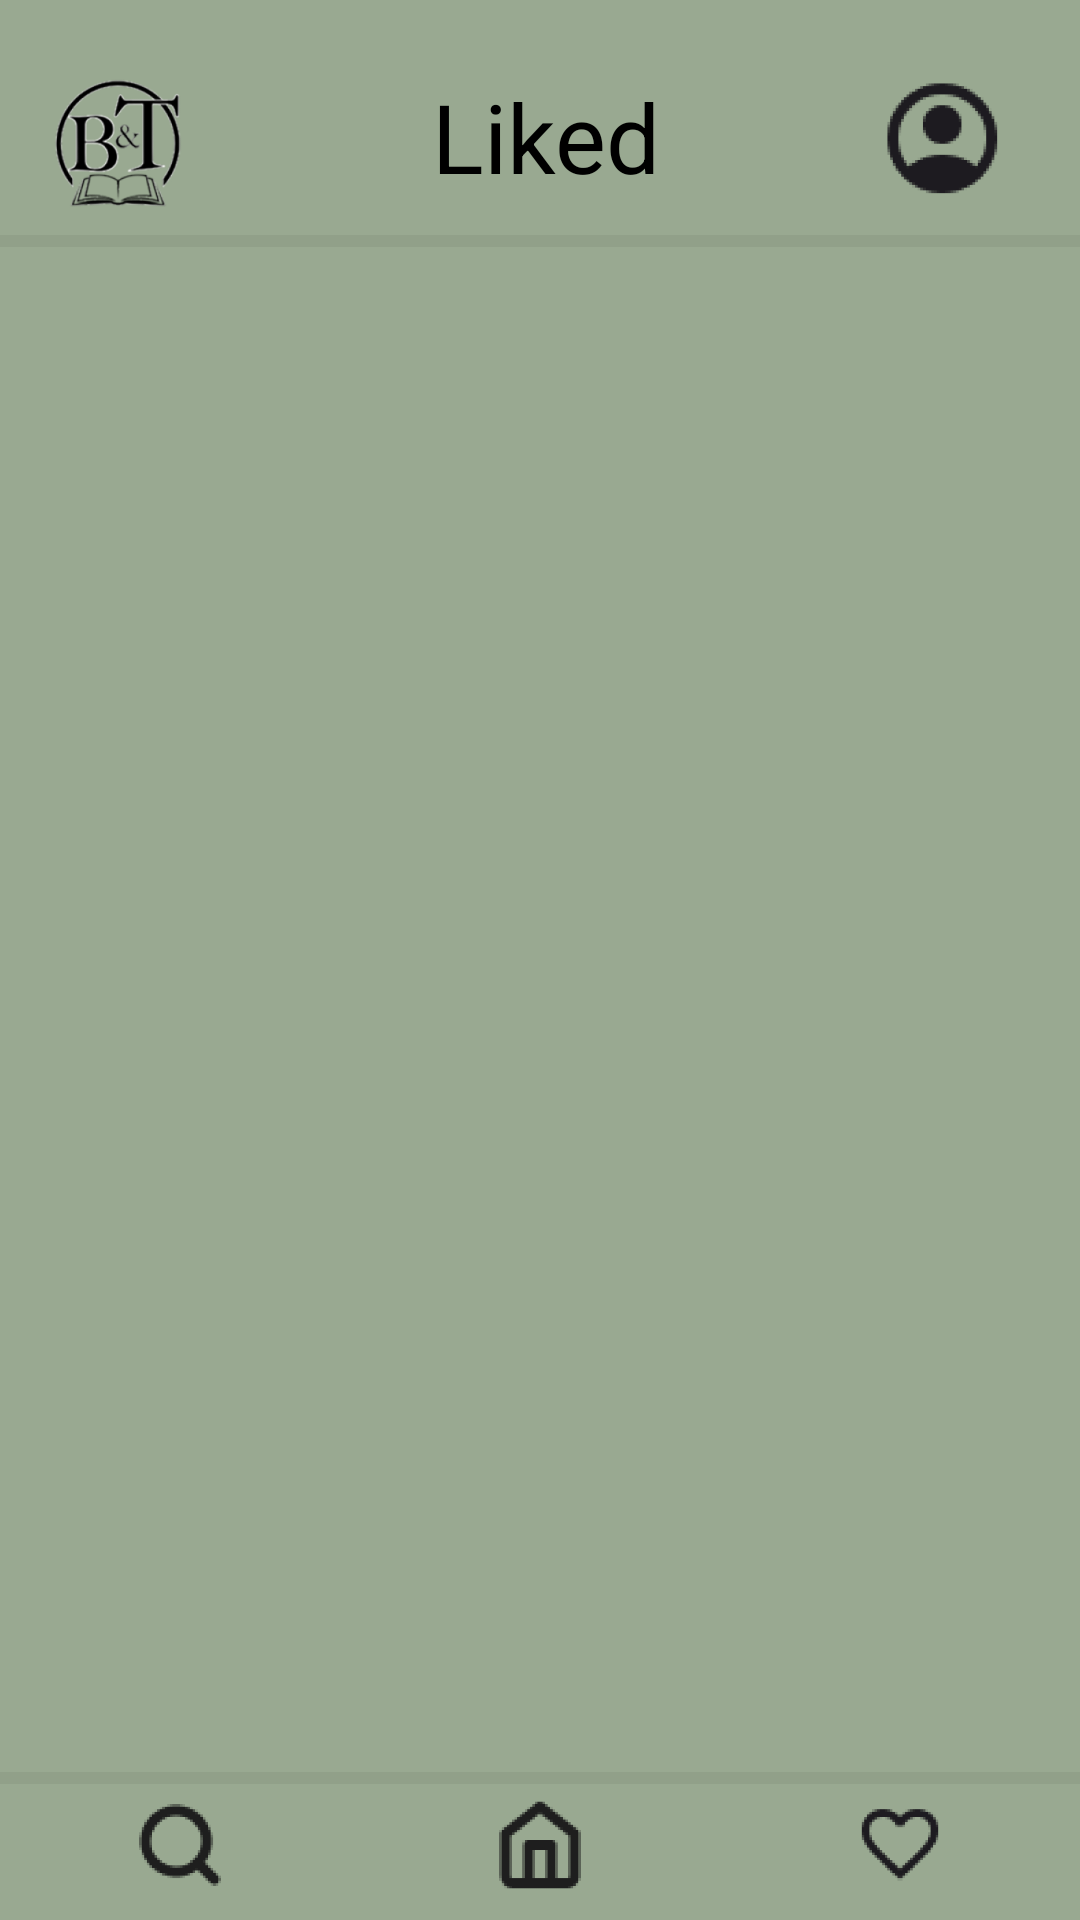

Point at icon controls on the screen. Image size 1080 x 1920, points as (x,y).
fav: (900,1844)
home: (540,1845)
search: (180,1845)
user: (942,138)
